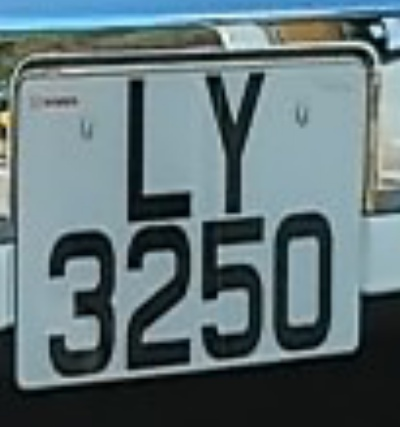0: (265, 199, 346, 359)
2: (116, 218, 202, 378)
3: (35, 220, 125, 388)
5: (191, 208, 275, 369)
L: (101, 62, 204, 227)
Y: (196, 55, 278, 218)
